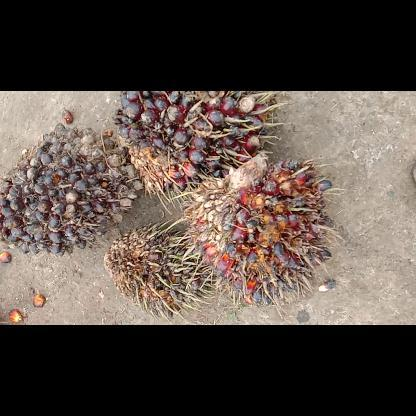Kurang masak: (1, 124, 141, 252), (116, 91, 270, 191)
TBS abnormal: (105, 222, 213, 314)
TBS masak: (192, 159, 332, 305)
